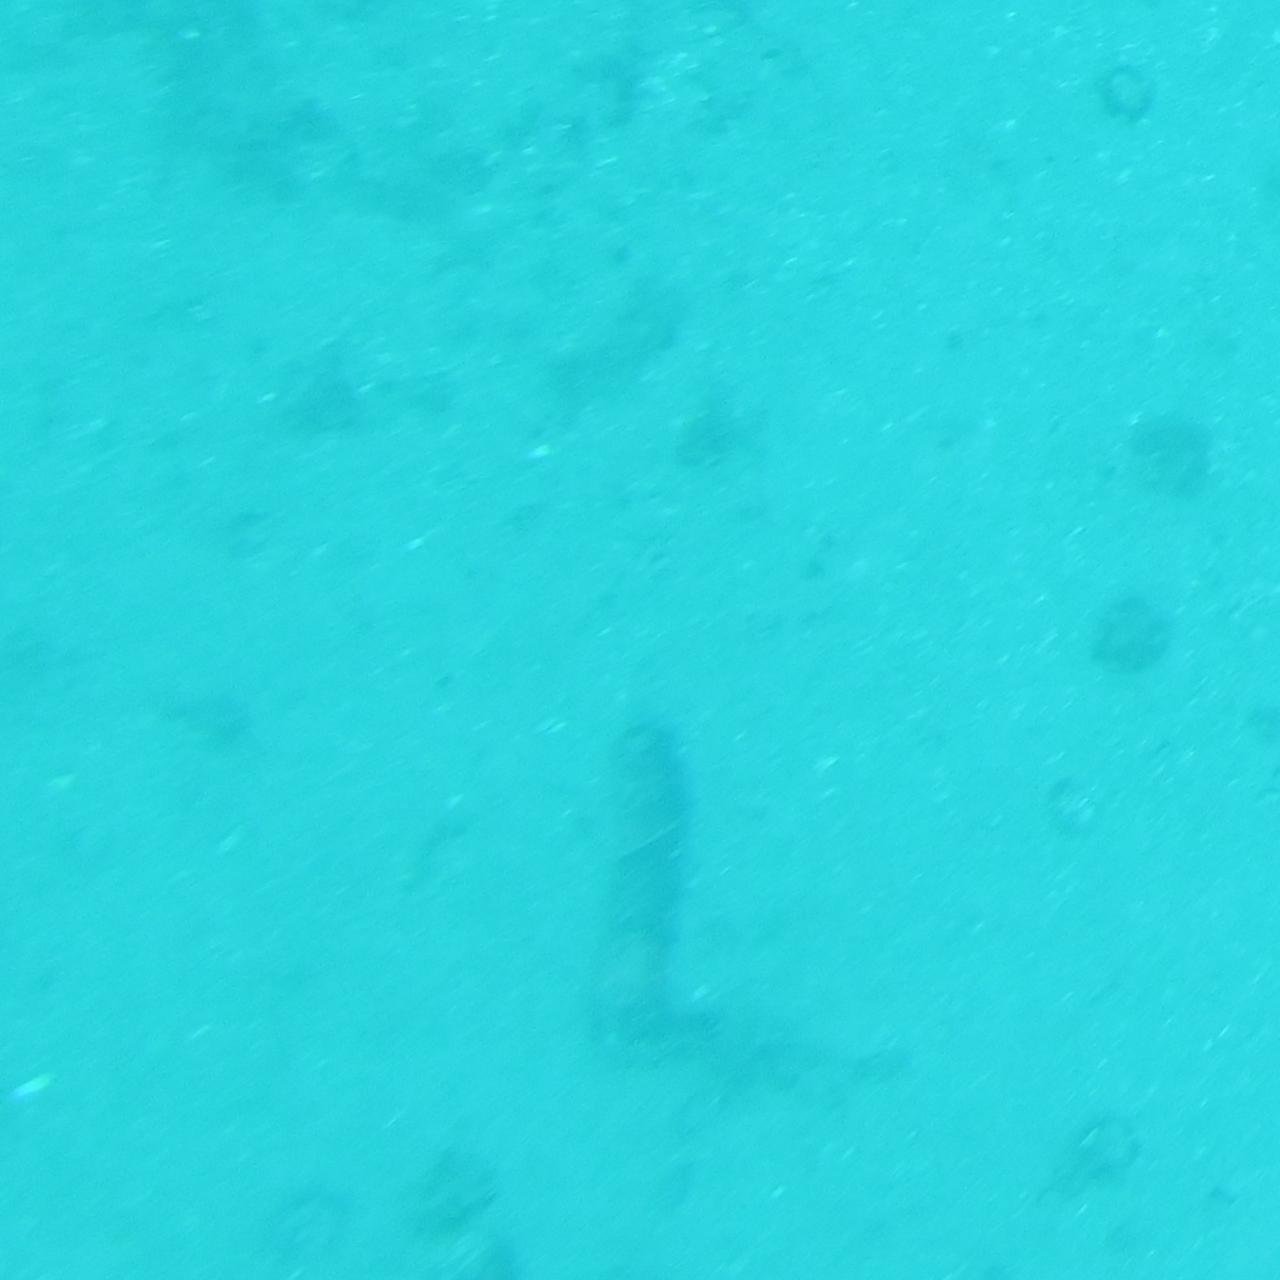Holothuria tubulosa: (596, 706, 684, 1080)
